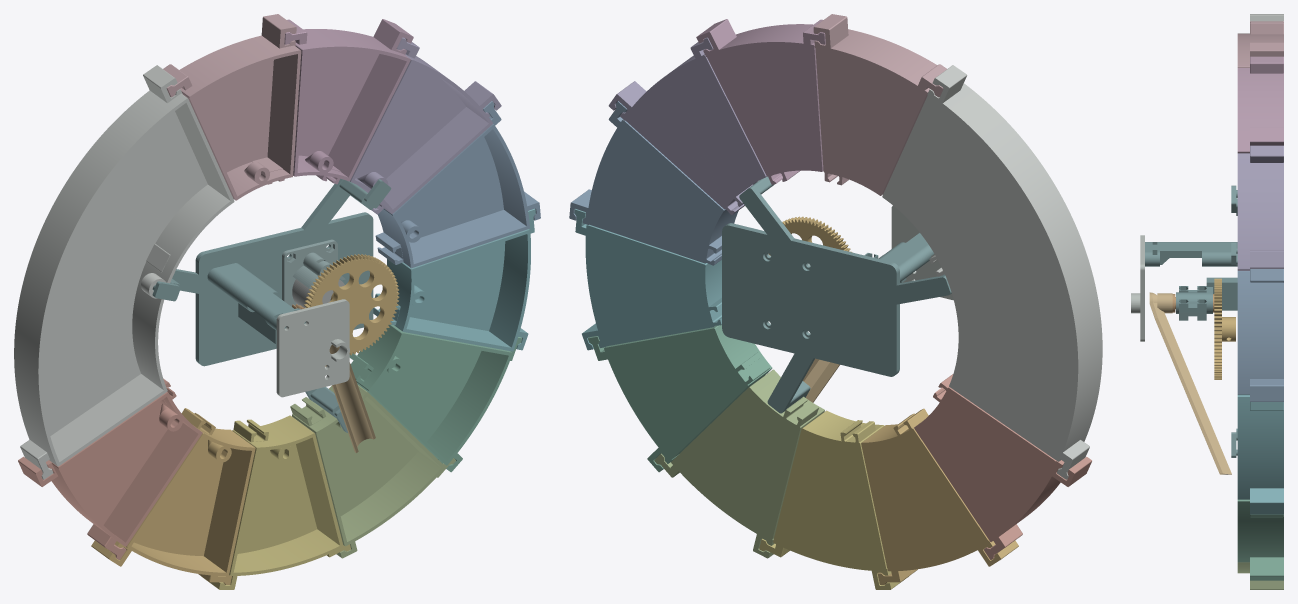
Rendered from VIEW_ONLY_operating_plus5.glb.
3 views of the same model, side by side, from view 1: azimuth 30°, elevation 25°; view 2: azimuth 150°, elevation 25°; view 3: azimuth 270°, elevation 25° (orthographic). The views are drawn at different scales.
Parts seen in each view (by area): view 1: bin_90, base_with_docking, bin_27_10, bin_27_09, bin_27_05, bin_27_03, bin_27_01, bin_27_07, bin_27_02, bin_27_06, bin_27_08, bin_27_04 (+4 smaller); view 2: bin_90, base_with_docking, bin_27_10, bin_27_09, bin_27_05, bin_27_03, bin_27_04, bin_27_01, bin_27_02, bin_27_06, bin_27_07, bin_27_08 (+3 smaller); view 3: bin_27_07, bin_27_08, bin_27_06, bin_27_09, base_with_docking, bin_27_05, smooth_u_chute_plus5, bin_27_10, drive80, REFERENCE_existing_middle_plate, bin_27_04, bearing_cap (+1 smaller).
Part boxes in pixels (box(x1,y1,x2,y2)): bin_90: box(14, 65, 234, 479); base_with_docking: box(152, 178, 391, 432); bin_27_10: box(163, 14, 301, 200); bin_27_09: box(284, 19, 413, 184); bin_27_05: box(349, 325, 522, 472); bin_27_03: box(201, 415, 350, 589); bin_27_01: box(18, 378, 202, 559); bin_27_07: box(375, 101, 540, 268); bin_27_02: box(91, 408, 255, 584); bin_27_06: box(373, 208, 535, 351); bin_27_08: box(350, 37, 501, 214); bin_27_04: box(290, 385, 455, 558); bin_90: box(882, 65, 1102, 479); base_with_docking: box(722, 176, 951, 413); bin_27_10: box(813, 14, 946, 195); bin_27_09: box(696, 19, 825, 184); bin_27_05: box(588, 325, 772, 472); bin_27_03: box(759, 410, 908, 589); bin_27_04: box(654, 369, 824, 558); bin_27_01: box(914, 374, 1091, 559); bin_27_02: box(861, 408, 1018, 584); bin_27_06: box(574, 208, 721, 350); bin_27_07: box(569, 101, 738, 265); bin_27_08: box(608, 37, 766, 214); bin_27_07: box(1237, 269, 1283, 401); bin_27_08: box(1237, 145, 1283, 270); bin_27_06: box(1237, 394, 1283, 514); bin_27_09: box(1237, 56, 1283, 153); base_with_docking: box(1145, 185, 1237, 457); bin_27_05: box(1237, 499, 1283, 580); smooth_u_chute_plus5: box(1149, 292, 1231, 474); bin_27_10: box(1237, 21, 1283, 67); drive80: box(1214, 278, 1235, 379); REFERENCE_existing_middle_plate: box(1131, 235, 1144, 341); bin_27_04: box(1237, 562, 1283, 589); bearing_cap: box(1176, 307, 1212, 320).
Bounding box in the file's own units: 362 × 373 × 99.
